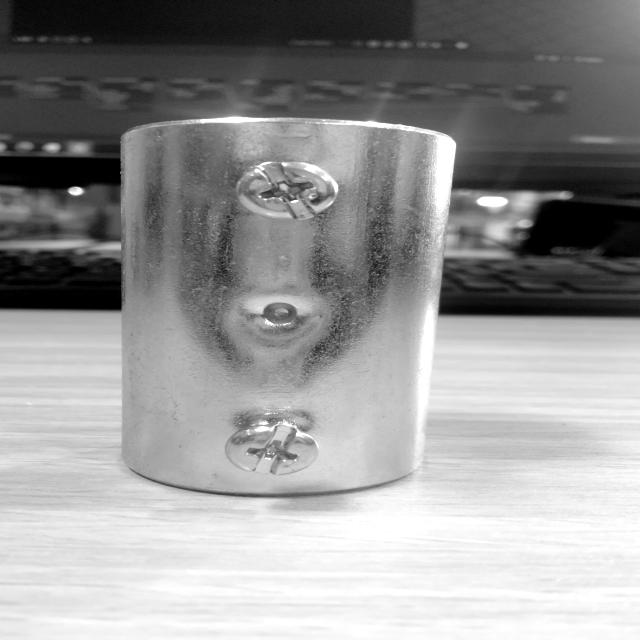Co_Nho: (111, 113, 456, 502)
